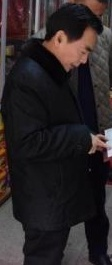boots: (88, 251, 112, 265), (102, 249, 112, 265)
